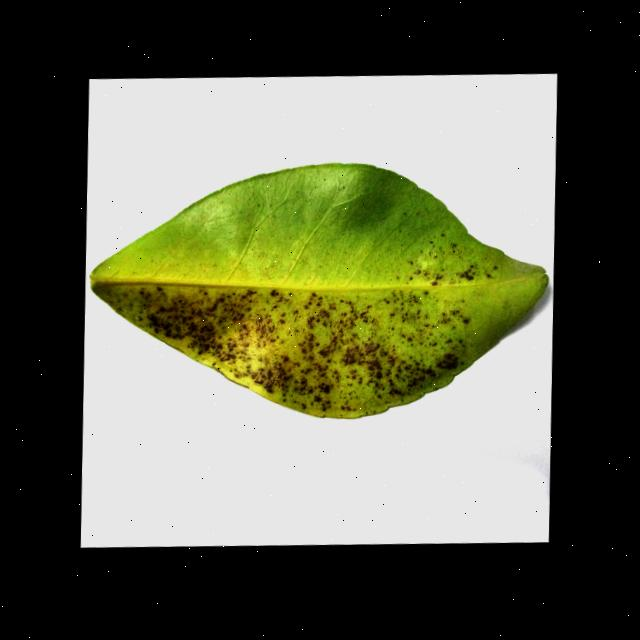melanose: (91, 163, 548, 419)
